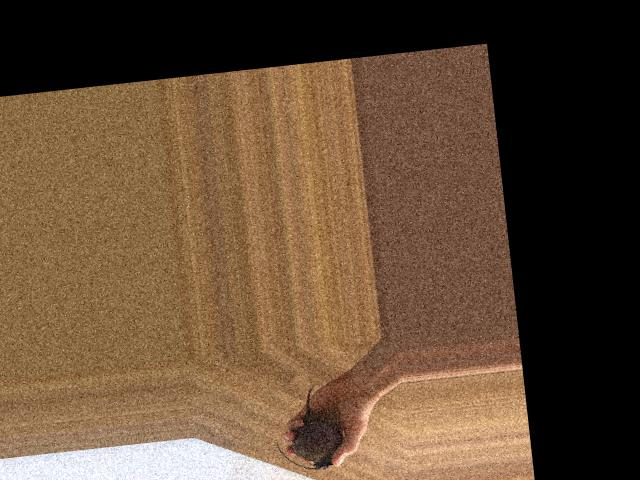beet: (269, 383, 345, 474)
